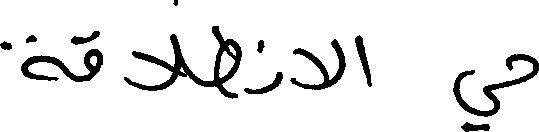ا: (353, 32, 371, 87)
ة: (0, 33, 63, 81)
ح: (504, 52, 536, 87)
ط: (213, 23, 241, 99)
ق: (82, 28, 103, 82)
لا: (121, 0, 183, 92), (292, 36, 344, 90)
ن: (254, 40, 283, 90)
ي: (452, 67, 500, 130)
